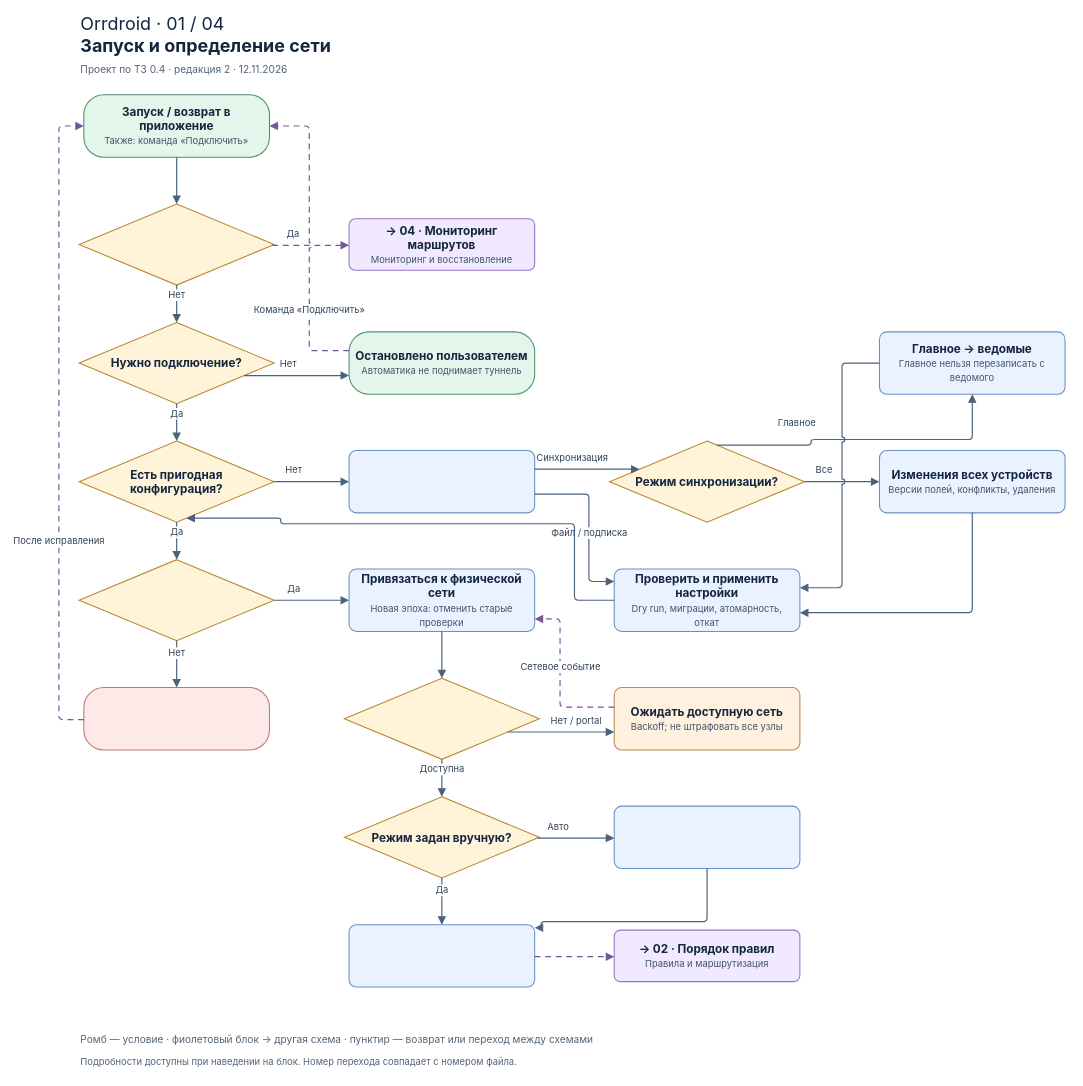
Some shapes in this 1083 by 1086 pixel diagram are drawn without their labels. Here are the shapes that lost their labels. From the top down, the box of each, then its label:
(78, 203, 274, 285): Сервис уже работает?
(348, 450, 535, 513): Добавить конфигурацию Подписка / файл / защищённая синхронизация
(78, 559, 274, 641): Разрешение VPN получено?
(83, 687, 270, 750): Нужно действие пользователя Разрешение / исправление / импорт
(343, 677, 540, 759): Есть сеть без portal?
(613, 805, 800, 869): Определить режим напрямую Несколько целей, debounce, подтверждение
(348, 924, 535, 987): Зафиксировать режим сети БС / ЧС / UNKNOWN + эпоха
